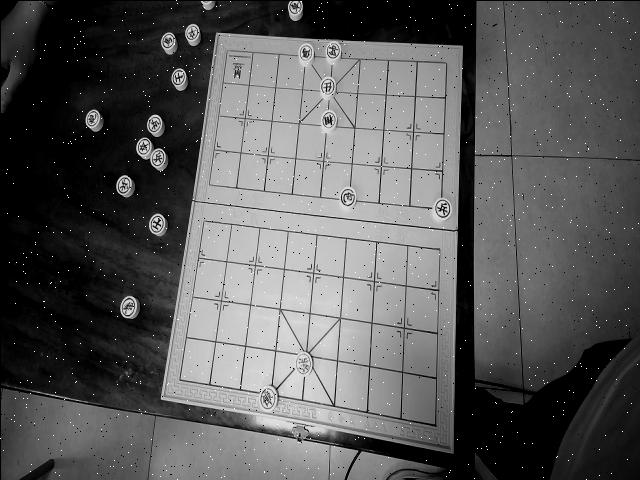piece: (259, 385, 278, 412), (432, 198, 451, 222), (295, 351, 312, 376), (120, 296, 139, 318), (149, 213, 167, 236), (136, 137, 154, 160), (321, 109, 337, 134), (116, 175, 134, 197), (86, 109, 103, 132), (320, 76, 336, 100), (150, 148, 167, 170), (147, 115, 164, 137), (340, 187, 356, 210), (326, 41, 341, 65), (171, 69, 188, 90), (161, 32, 177, 54), (185, 24, 201, 46), (299, 43, 314, 66), (288, 1, 303, 20), (201, 1, 215, 10)
